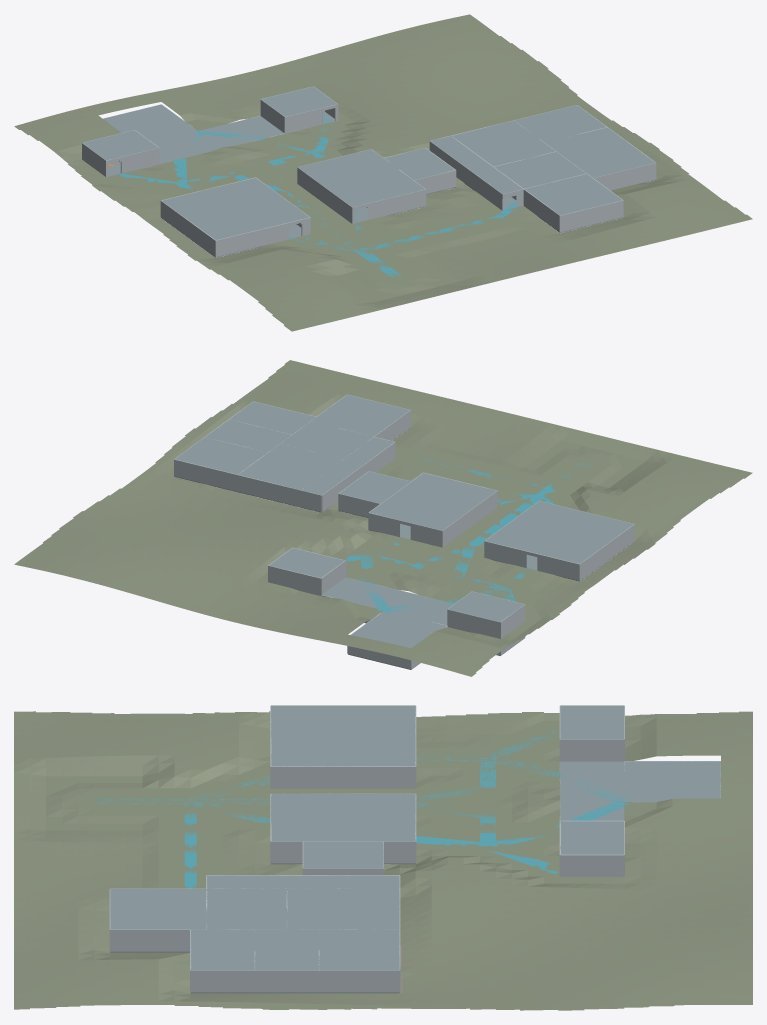
File: open-circulation.glb
3 renders of one model, top to bottom at view 1: azimuth 30°, elevation 25°; view 2: azimuth 150°, elevation 25°; view 3: azimuth 270°, elevation 25°, orthographic. The views are drawn at different scales.
Parts seen in each view (by area): view 1: Saved editor terrain WLD-07-MORTUARY, Ceiling cap chapel, Ceiling cap cottage, Ceiling cap mort-viewing, Ceiling cap mort-bay, Ceiling cap chamber, Ceiling cap mort-prep, Ceiling cap mort-reception, Ceiling cap mort-office, Ceiling cap mort-cold, Ceiling cap mort-hall, Flat route shell Wall chapel S (+16 smaller); view 2: Saved editor terrain WLD-07-MORTUARY, Ceiling cap chapel, Ceiling cap cottage, Ceiling cap mort-viewing, Ceiling cap mort-bay, Ceiling cap chamber, Ceiling cap mort-reception, Ceiling cap mort-prep, Ceiling cap mort-hall, Ceiling cap mort-cold, Ceiling cap mort-office, Ceiling cap west-stair (+18 smaller); view 3: Saved editor terrain WLD-07-MORTUARY, Ceiling cap chapel, Ceiling cap cottage, Ceiling cap mort-viewing, Ceiling cap mort-bay, Ceiling cap chamber, Ceiling cap mort-prep, Wall chapel E, Ceiling cap mort-reception, Ceiling cap mort-hall, Ceiling cap mort-cold, Ceiling cap mort-office (+16 smaller).
Part boxes in pixels (x1,y1,x2,y2): Saved editor terrain WLD-07-MORTUARY: [14, 14, 752, 331]; Ceiling cap chapel: [162, 177, 309, 239]; Ceiling cap cottage: [298, 149, 425, 206]; Ceiling cap mort-viewing: [452, 120, 555, 166]; Ceiling cap mort-bay: [525, 174, 622, 215]; Ceiling cap chamber: [103, 104, 196, 142]; Ceiling cap mort-prep: [514, 105, 606, 142]; Ceiling cap mort-reception: [494, 152, 585, 188]; Ceiling cap mort-office: [569, 145, 655, 177]; Ceiling cap mort-cold: [545, 127, 630, 160]; Ceiling cap mort-hall: [430, 136, 522, 193]; Flat route shell Wall chapel S: [215, 222, 290, 256]; Saved editor terrain WLD-07-MORTUARY: [14, 360, 752, 676]; Ceiling cap chapel: [485, 501, 633, 563]; Ceiling cap cottage: [369, 473, 496, 530]; Ceiling cap mort-viewing: [238, 443, 342, 490]; Ceiling cap mort-bay: [311, 394, 409, 436]; Ceiling cap chamber: [351, 610, 446, 647]; Ceiling cap mort-reception: [280, 421, 373, 458]; Ceiling cap mort-prep: [175, 437, 267, 474]; Ceiling cap mort-hall: [301, 437, 394, 495]; Ceiling cap mort-cold: [205, 419, 291, 452]; Ceiling cap mort-office: [230, 401, 315, 434]; Ceiling cap west-stair: [448, 591, 524, 621]; Saved editor terrain WLD-07-MORTUARY: [14, 711, 752, 1010]; Ceiling cap chapel: [271, 705, 415, 766]; Ceiling cap cottage: [271, 793, 415, 841]; Ceiling cap mort-viewing: [287, 889, 399, 929]; Ceiling cap mort-bay: [110, 889, 206, 929]; Ceiling cap chamber: [624, 761, 720, 801]; Ceiling cap mort-prep: [319, 929, 399, 970]; Wall chapel E: [271, 766, 415, 788]; Ceiling cap mort-reception: [206, 889, 286, 929]; Ceiling cap mort-hall: [206, 875, 399, 888]; Ceiling cap mort-cold: [255, 929, 319, 970]; Ceiling cap mort-office: [190, 929, 254, 970].
Bounding box in the file's own units: 88 × 6.16 × 92.
